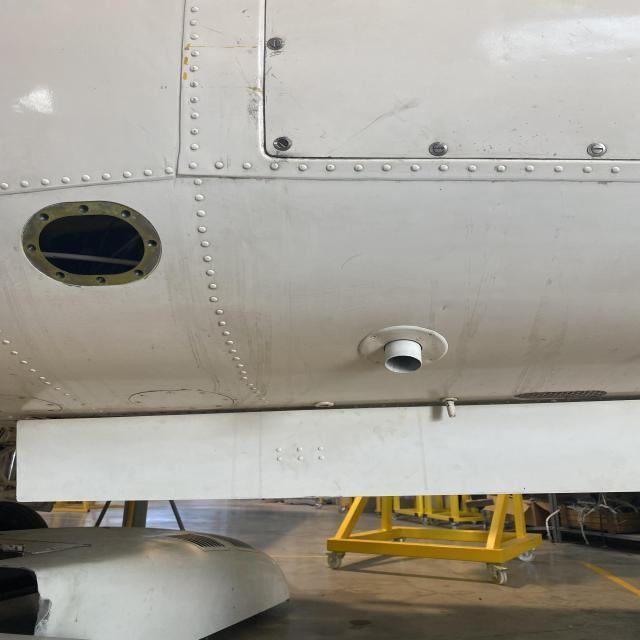Missing Fastener: (144, 238, 158, 250), (54, 268, 68, 280), (26, 244, 40, 256), (78, 204, 94, 214), (134, 270, 150, 280), (38, 210, 50, 223), (118, 208, 132, 218), (94, 276, 110, 284)
